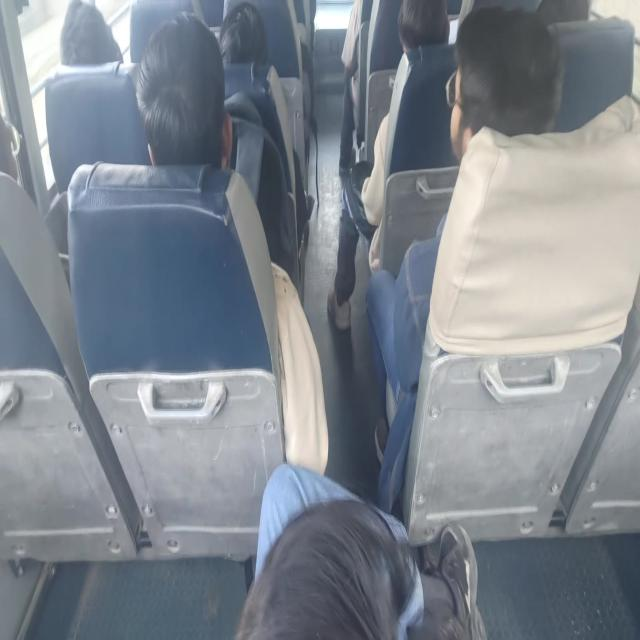person: (365, 4, 564, 510), (134, 11, 328, 475), (235, 462, 488, 638), (327, 0, 451, 331), (135, 12, 233, 169), (59, 0, 123, 66), (218, 1, 267, 66)
